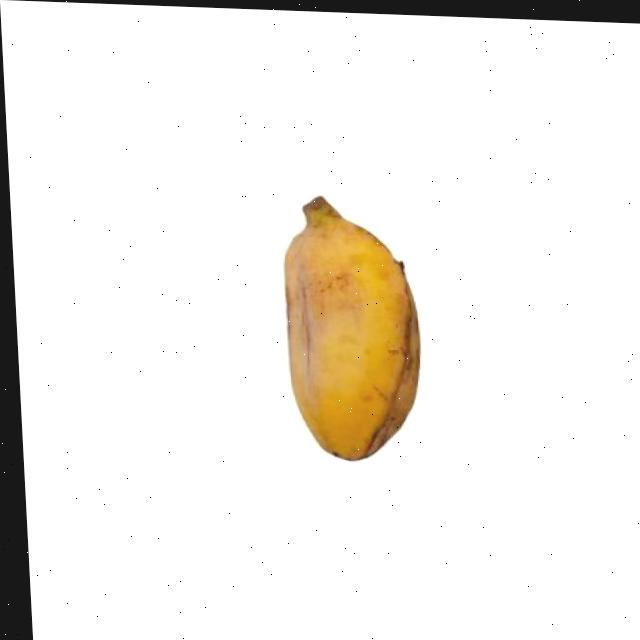banana: (267, 183, 433, 463)
